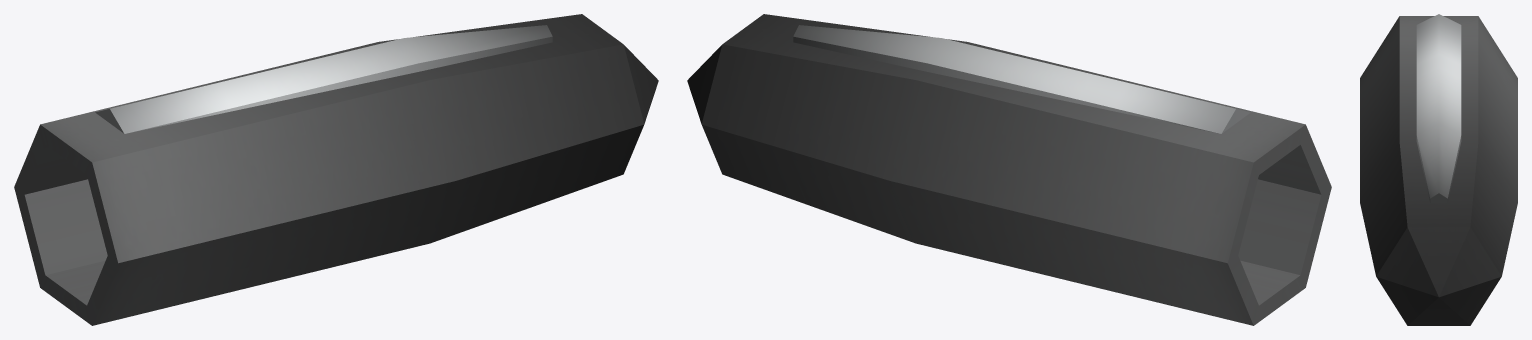
The model's file is PenLid.fbx.
The picture shows the model from 3 angles, left to right: view 1: azimuth 30°, elevation 25°; view 2: azimuth 150°, elevation 25°; view 3: azimuth 270°, elevation 25°; orthographic projection. The views are drawn at different scales.
Parts seen in each view (by area): view 1: PenLid; view 2: PenLid; view 3: PenLid.
Part boxes in pixels (bbox=[...]): PenLid: bbox=[14, 14, 658, 325]; PenLid: bbox=[687, 14, 1331, 325]; PenLid: bbox=[1360, 14, 1517, 325].
Bounding box in the file's own units: 3.49 × 1.05 × 1.06.
